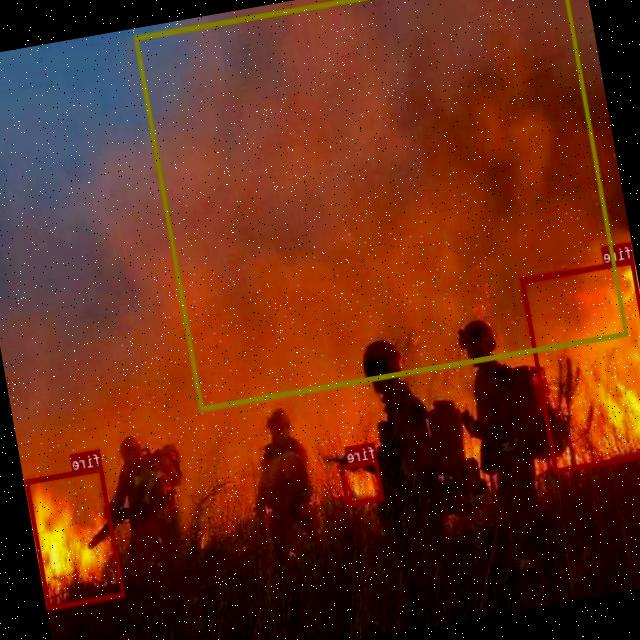fire: (521, 257, 640, 471), (25, 465, 126, 609), (338, 458, 384, 504)
smoke: (133, 0, 628, 411)
